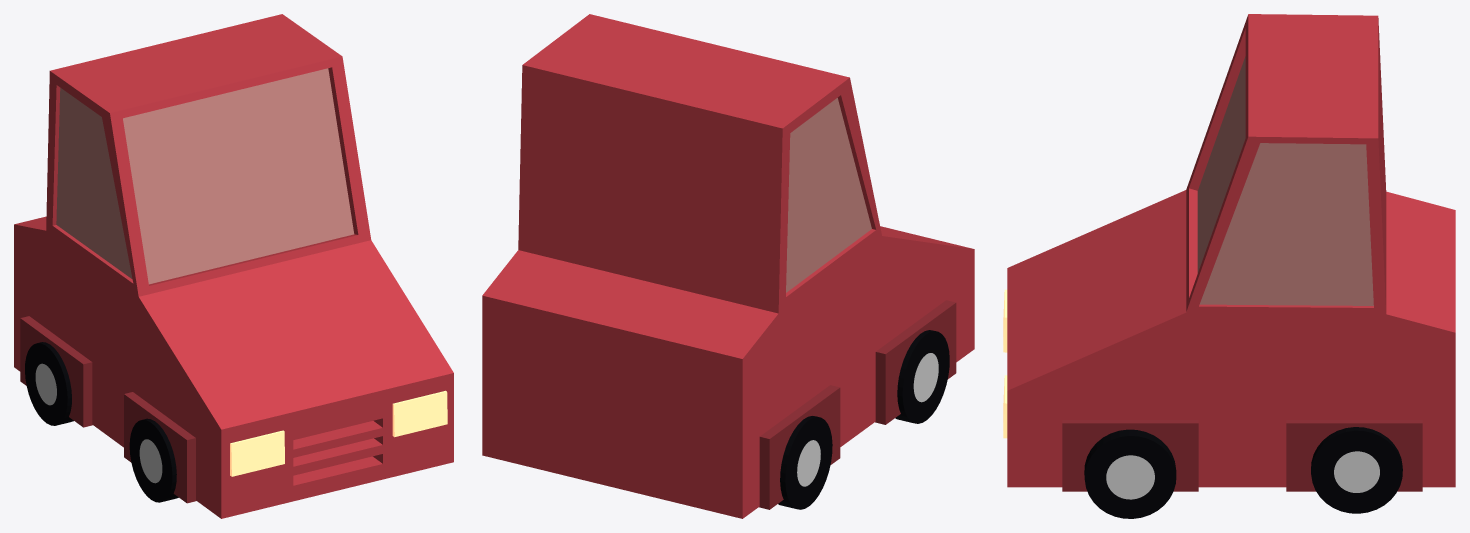
Rendered from obstacle_car.glb.
3 views of the same model, side by side, from view 1: azimuth 30°, elevation 25°; view 2: azimuth 150°, elevation 25°; view 3: azimuth 270°, elevation 25° (orthographic). The views are drawn at different scales.
Visible parts, largest first — view 1: Plane.001; view 2: Plane.001; view 3: Plane.001.
Part boxes in pixels (left/top/right/bottom): Plane.001: left=14, top=14, right=453, bottom=518; Plane.001: left=482, top=14, right=974, bottom=518; Plane.001: left=1003, top=14, right=1455, bottom=518.
Size of the model in its own units: 1.27 by 1.58 by 1.74.
